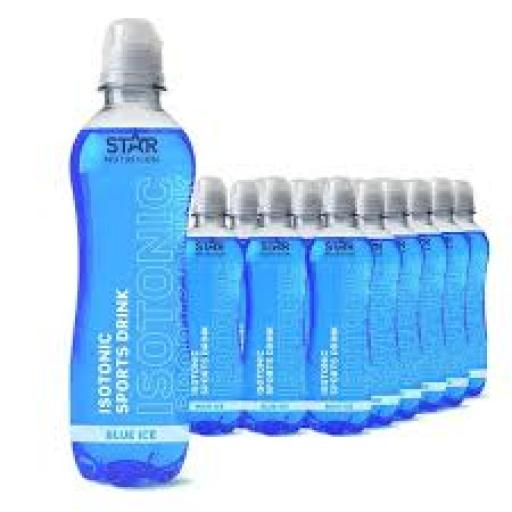blue-bottle: (71, 20, 193, 482), (243, 177, 307, 432)
